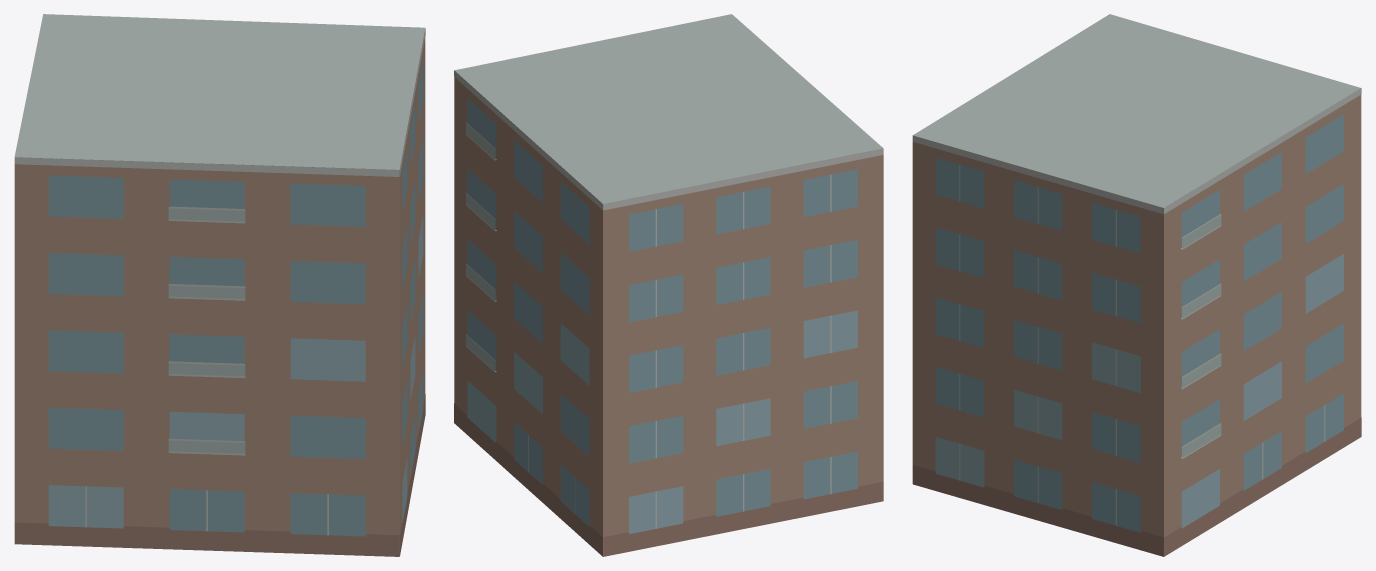
Rendered from survey-upis-33033301.glb.
The picture shows the model from 3 angles, left to right: view 1: azimuth 30°, elevation 25°; view 2: azimuth 150°, elevation 25°; view 3: azimuth 270°, elevation 25°; orthographic projection. The views are drawn at different scales.
Parts seen in each view (by area): view 1: survey-upis-33033301.tmp; view 2: survey-upis-33033301.tmp; view 3: survey-upis-33033301.tmp.
Boxes of the visible parts, x1,y1,x2,y2 form: survey-upis-33033301.tmp: (14, 14, 425, 556); survey-upis-33033301.tmp: (454, 14, 883, 556); survey-upis-33033301.tmp: (912, 14, 1361, 556).
Size of the model in its own units: 15.93 by 13.35 by 15.57.
